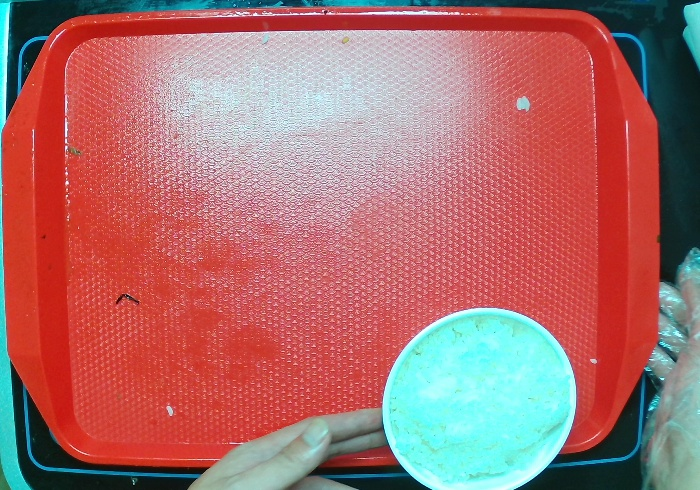YKMZ-Fan_Wan: (382, 305, 577, 490)
